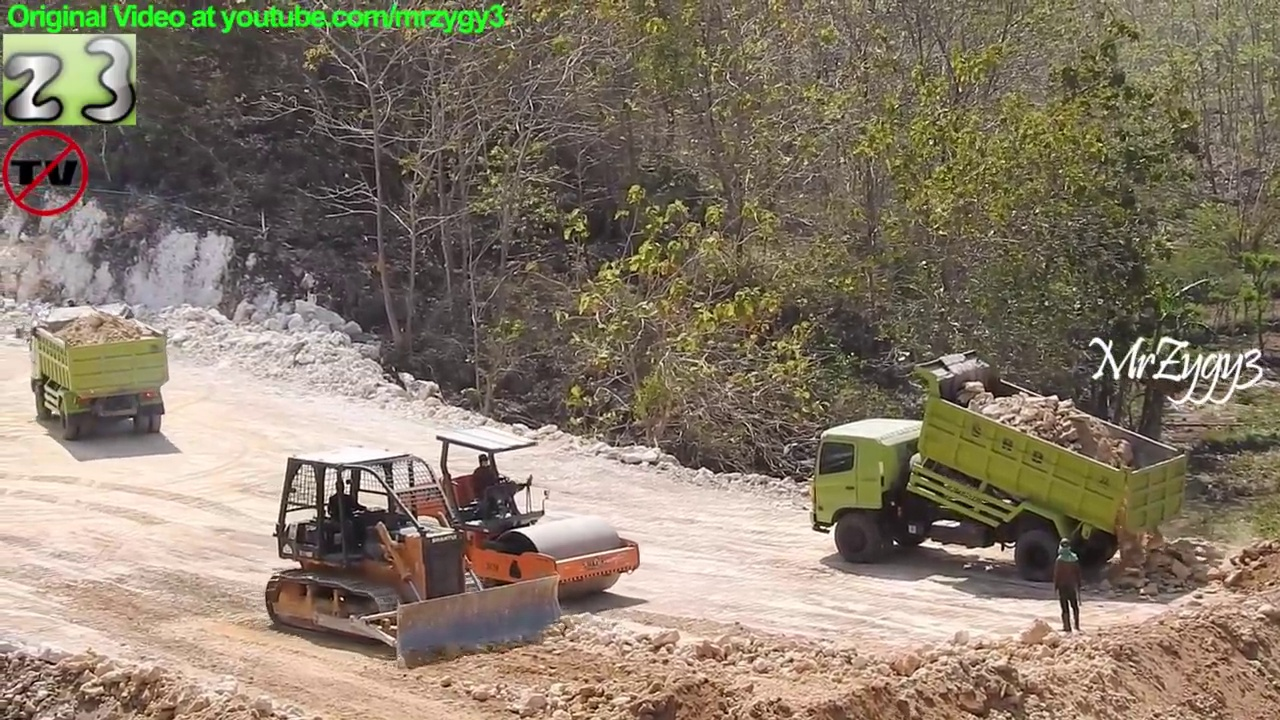bulldozer: (258, 438, 578, 672)
compactor: (369, 417, 646, 612)
truck: (792, 344, 1196, 589), (13, 302, 174, 444)
